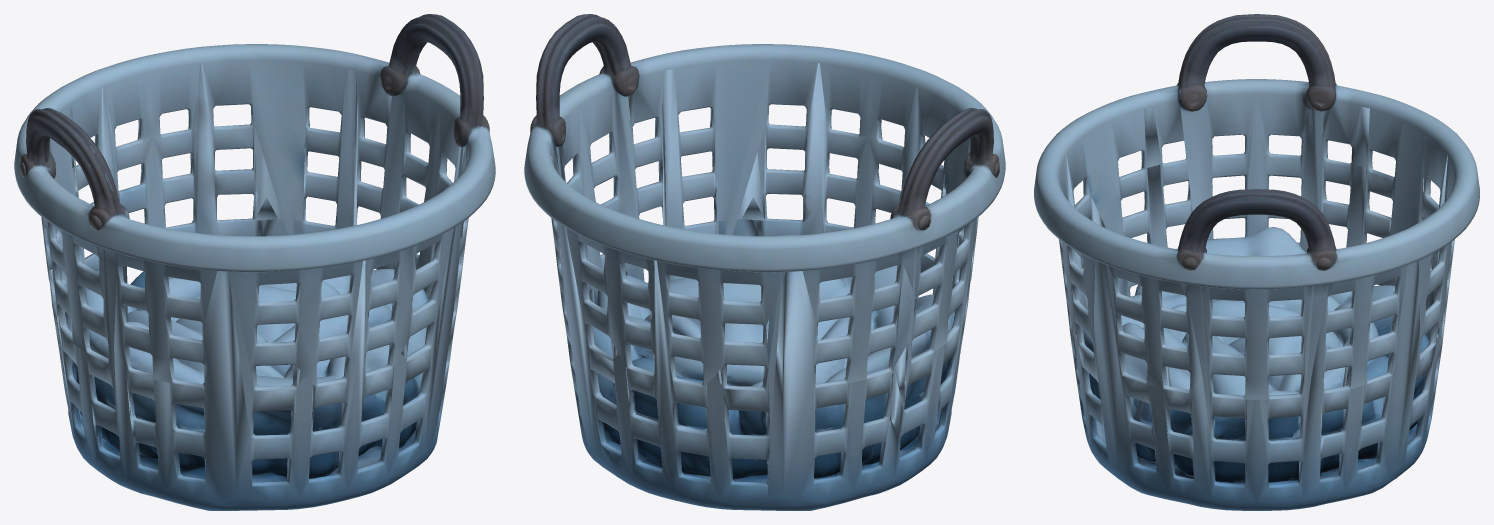
The model's file is Inside__a_laundry_basket_315652c4_v1.cluster.glb.
The picture shows the model from 3 angles, left to right: view 1: azimuth 30°, elevation 25°; view 2: azimuth 150°, elevation 25°; view 3: azimuth 270°, elevation 25°; orthographic projection. The views are drawn at different scales.
Visible parts, largest first — view 1: material; view 2: material; view 3: material.
Part boxes in pixels (bbox=[...]): material: bbox=[14, 14, 495, 510]; material: bbox=[524, 14, 1005, 510]; material: bbox=[1034, 14, 1479, 510].
Bounding box in the file's own units: 1.9 × 1.61 × 1.9.
Materials: 1 (1 with a texture image).
